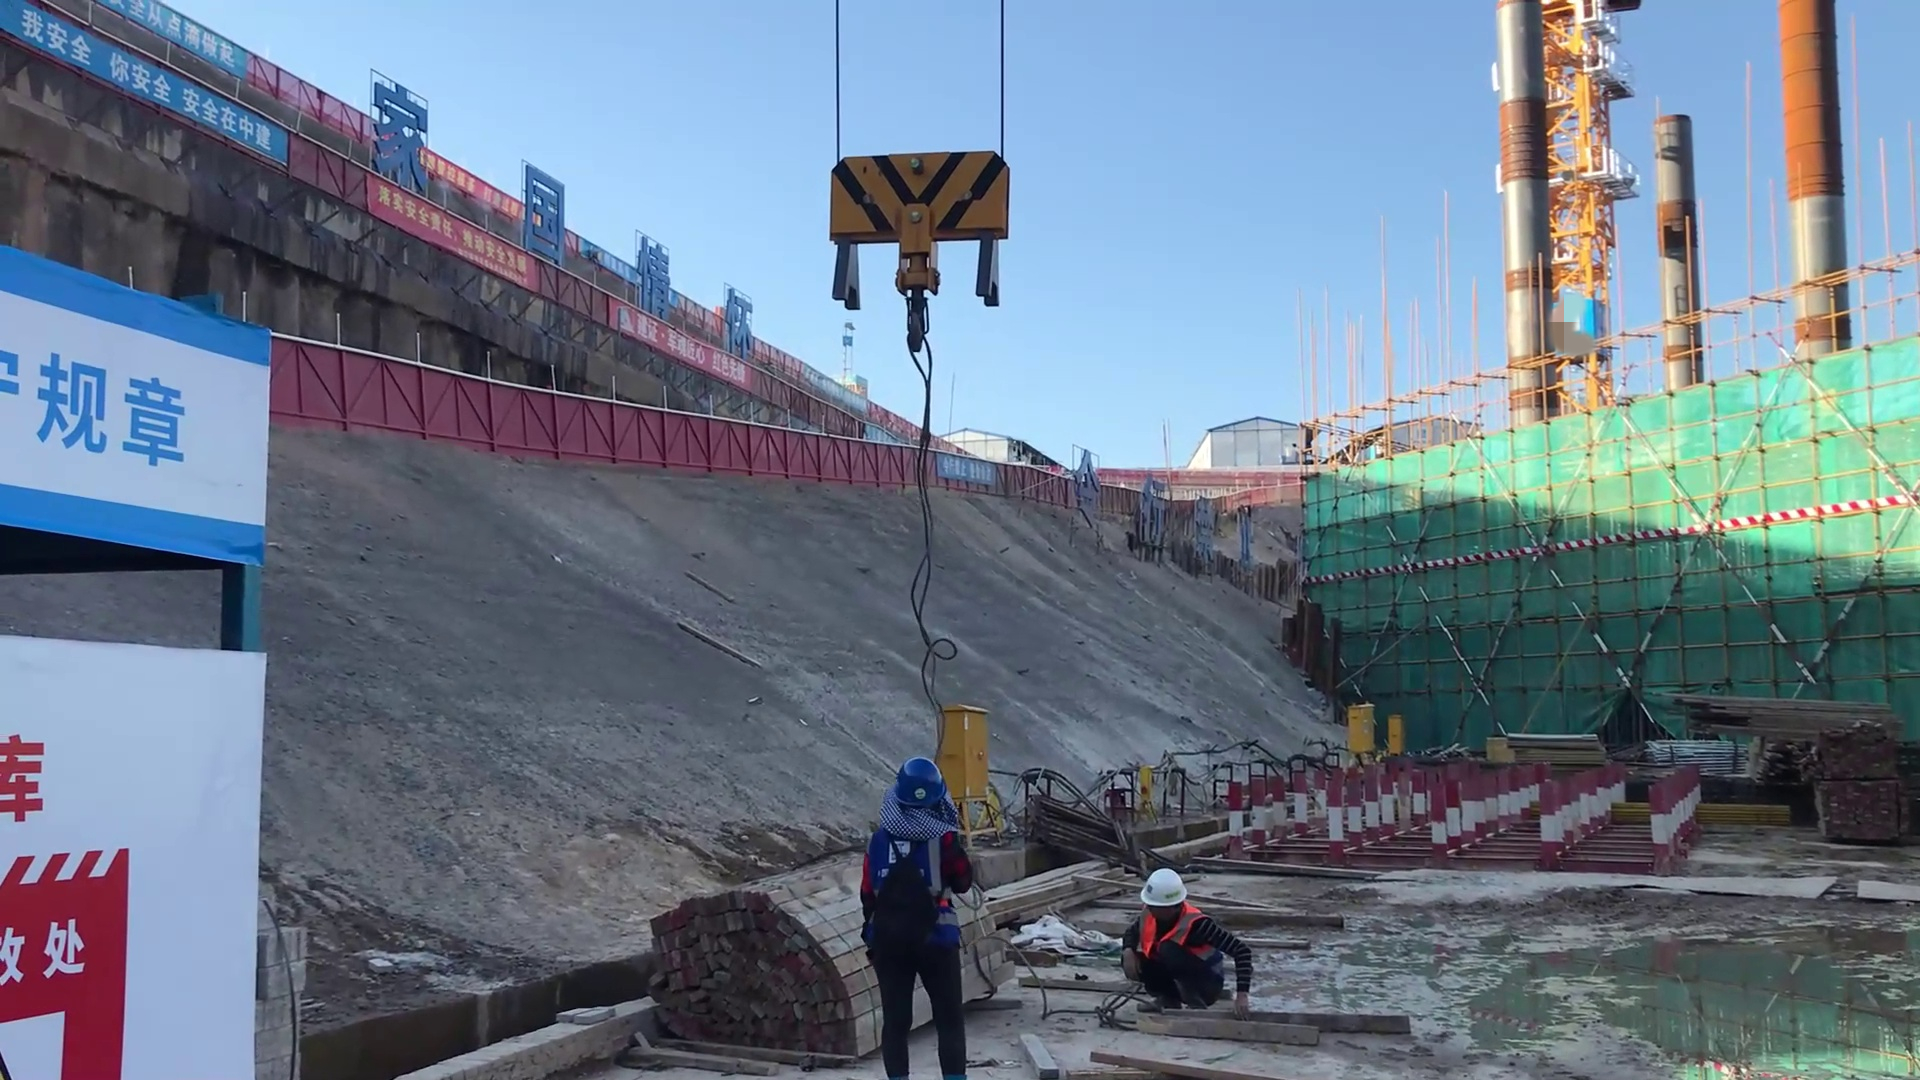ebox: (930, 690, 992, 816), (1338, 694, 1380, 752), (1380, 711, 1404, 753)
fence: (267, 344, 663, 475), (662, 418, 940, 497), (933, 453, 1085, 512)
helmet: (884, 754, 949, 806), (1133, 866, 1186, 908)
hook: (817, 126, 999, 322)
person: (857, 756, 978, 1080), (1111, 868, 1255, 1014)
slogan: (1, 304, 252, 512), (1, 9, 288, 190), (318, 170, 536, 337)
vest: (1129, 913, 1210, 955)
wood: (625, 863, 869, 1080), (1669, 678, 1881, 757)
